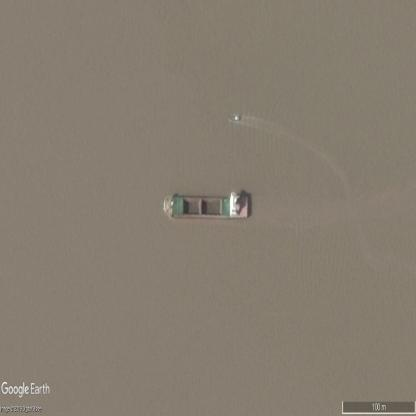ship: (162, 192, 250, 219), (234, 116, 238, 120)
